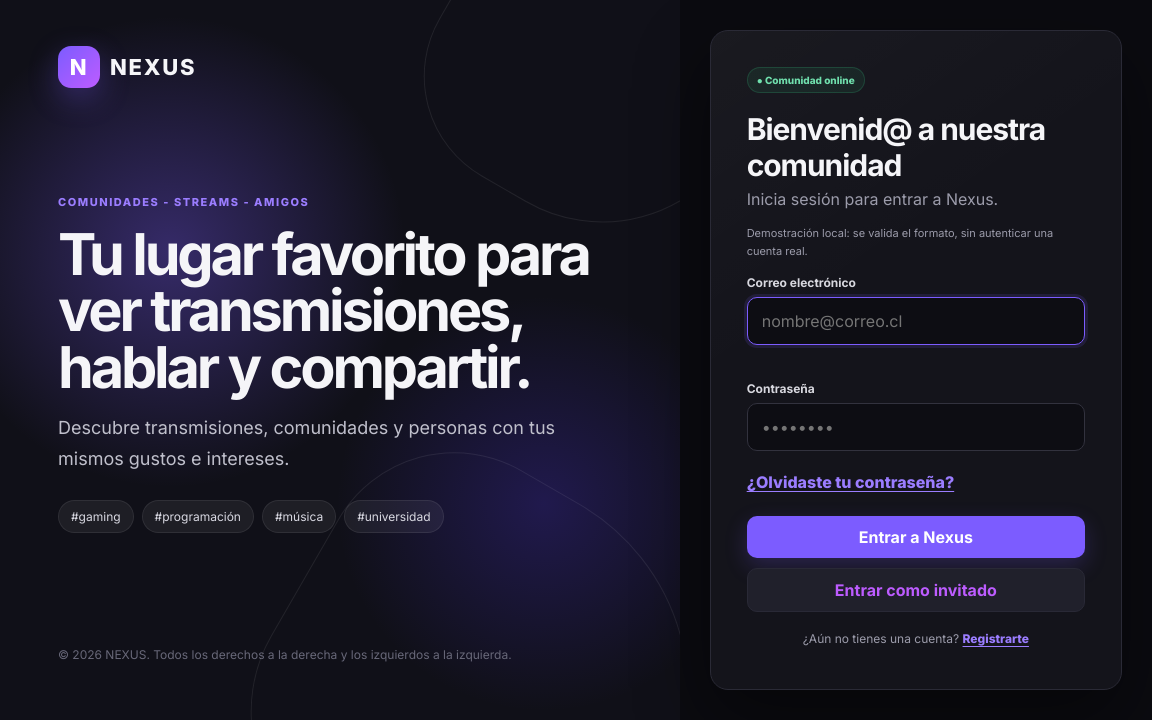
Test: Página Admin › una clave admin incorrecta en el login normal no crea sesión de cliente
The width and height of the screenshot is (1152, 720).
In the field labelled "Correo electrónico": (916, 321) [747,297,1085,345], type "admin@nexus.cl"
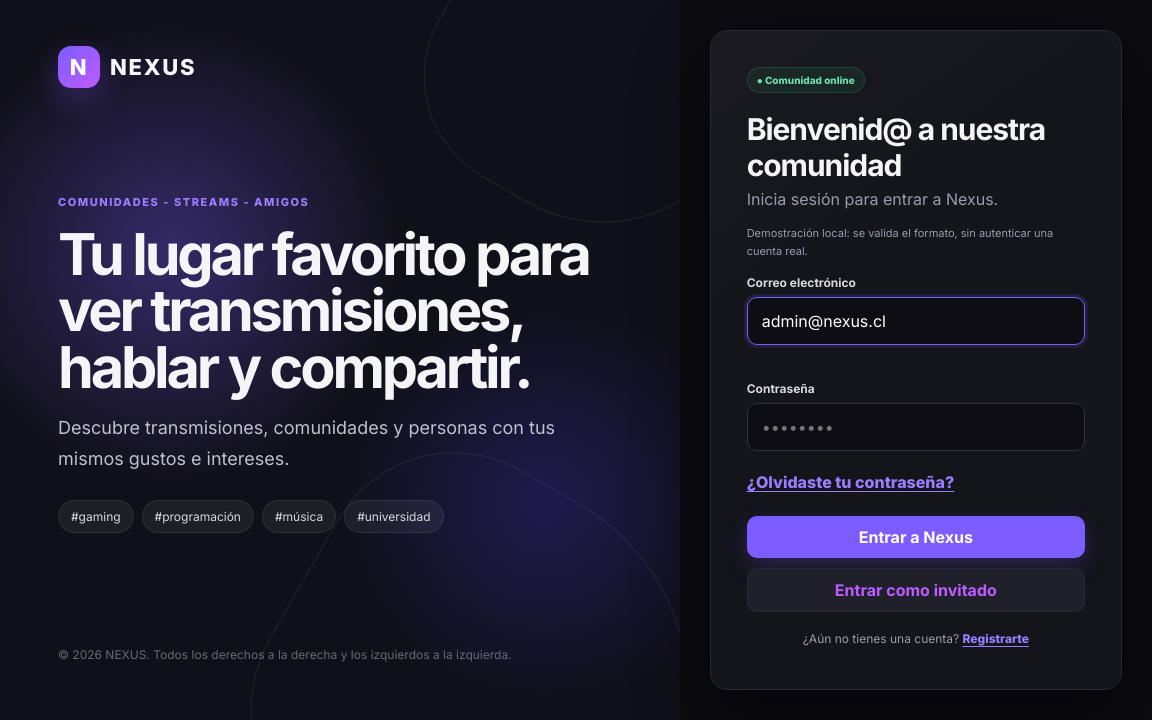
In the password field labelled "Contraseña" below "Inicia sesión para entrar a Nexus.": (916, 427) [747,403,1085,451], type "incorrecta"
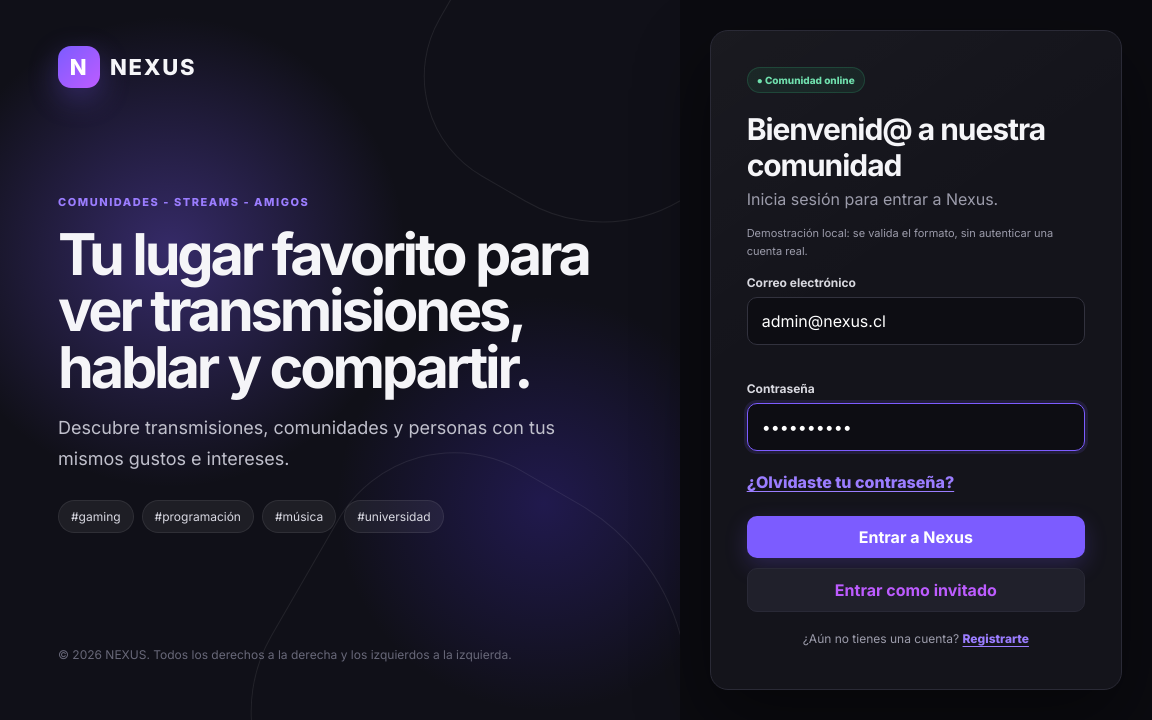
Click the button "Entrar a Nexus": (916, 537) [747,516,1085,558]
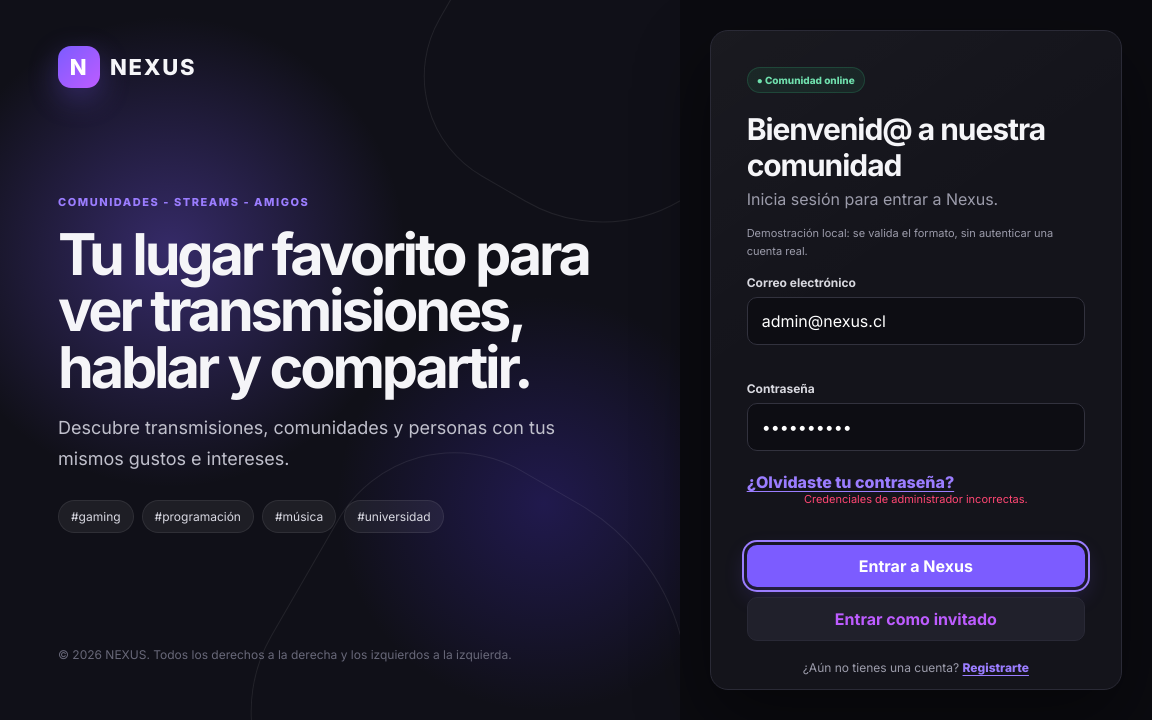
Check: the message shows "Credenciales de administrador incorrectas", box [804,492,1028,506]
Clear the field labelled "Correo electrónico": (916, 321) [747,297,1085,345]
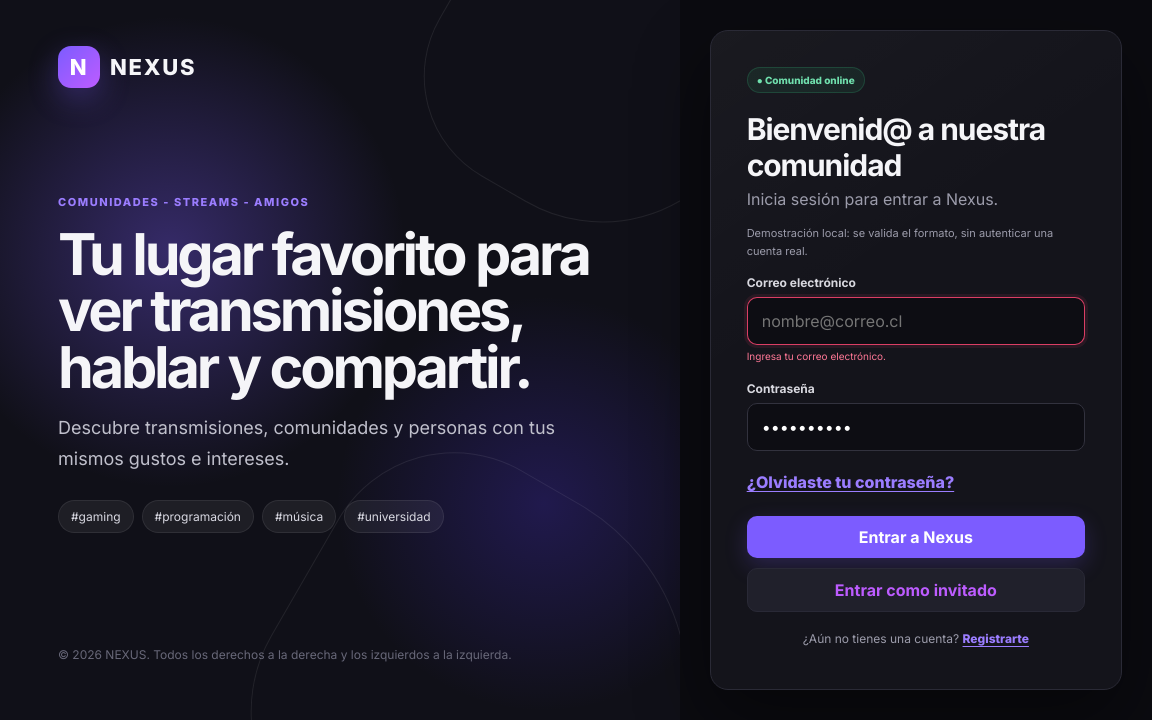
Check: the message "Credenciales de administrador incorrectas." is gone
